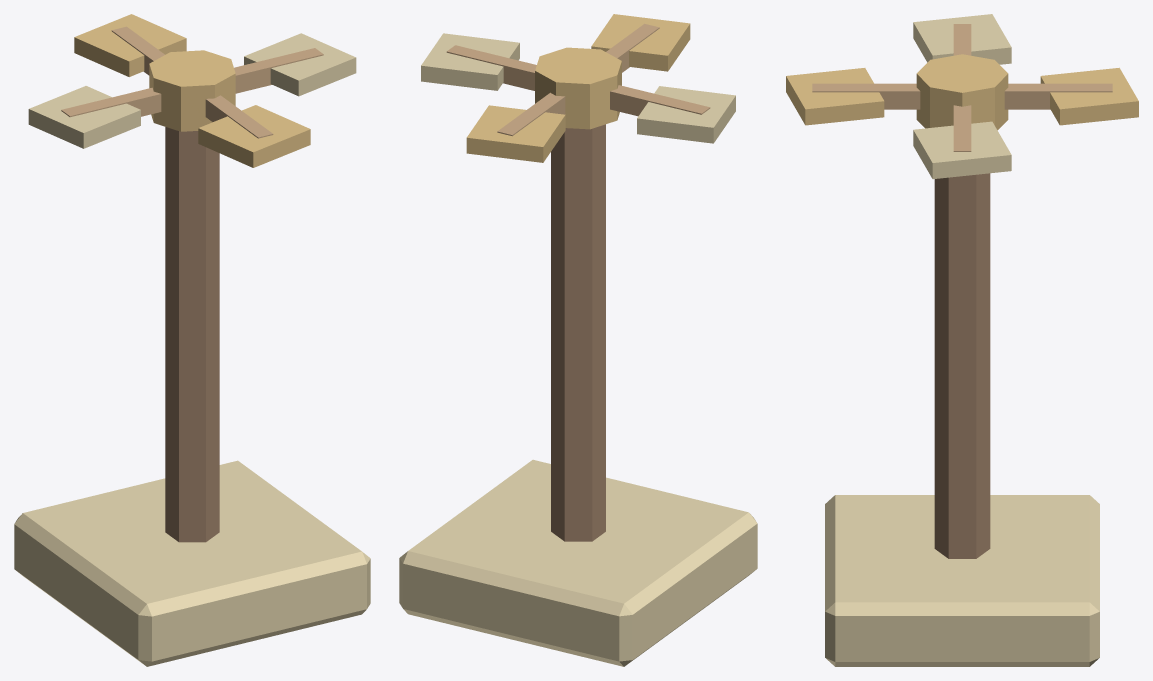
File: cata_vento_solar.glb
3 renders of one model, left to right at view 1: azimuth 30°, elevation 25°; view 2: azimuth 150°, elevation 25°; view 3: azimuth 270°, elevation 25°, orthographic. The views are drawn at different scales.
Visible parts, largest first — view 1: base_arenito, mastro, centro_dourado, pa_3, pa_2, pa_0, pa_1, braco_0, braco_2, braco_3, braco_1; view 2: base_arenito, mastro, centro_dourado, pa_1, pa_2, pa_0, pa_3, braco_2, braco_0, braco_1, braco_3; view 3: base_arenito, mastro, centro_dourado, pa_0, pa_3, pa_1, pa_2, braco_1, braco_3, braco_0, braco_2.
Part boxes in pixels (left/top/right/bottom): base_arenito: left=14, top=460, right=370, bottom=666; mastro: left=165, top=127, right=219, bottom=542; centro_dourado: left=149, top=50, right=235, bottom=131; pa_3: left=198, top=105, right=310, bottom=167; pa_2: left=28, top=86, right=140, bottom=148; pa_0: left=244, top=33, right=356, bottom=96; pa_1: left=74, top=14, right=186, bottom=76; braco_0: left=234, top=48, right=323, bottom=93; braco_2: left=61, top=87, right=161, bottom=117; braco_3: left=205, top=95, right=273, bottom=138; braco_1: left=111, top=26, right=164, bottom=75; base_arenito: left=399, top=459, right=757, bottom=666; mastro: left=551, top=124, right=605, bottom=541; centro_dourado: left=535, top=47, right=621, bottom=129; pa_1: left=466, top=105, right=565, bottom=162; pa_2: left=637, top=86, right=735, bottom=143; pa_0: left=421, top=33, right=519, bottom=90; pa_3: left=591, top=14, right=690, bottom=71; braco_2: left=610, top=85, right=710, bottom=116; braco_0: left=446, top=45, right=536, bottom=90; braco_1: left=497, top=92, right=565, bottom=136; braco_3: left=606, top=23, right=659, bottom=72; base_arenito: left=825, top=495, right=1099, bottom=666; mastro: left=934, top=173, right=990, bottom=558; centro_dourado: left=916, top=54, right=1008, bottom=130; pa_0: left=913, top=121, right=1011, bottom=179; pa_3: left=786, top=68, right=884, bottom=125; pa_1: left=1040, top=67, right=1138, bottom=125; pa_2: left=913, top=14, right=1011, bottom=64; braco_1: left=1004, top=83, right=1112, bottom=109; braco_3: left=812, top=83, right=920, bottom=109; braco_0: left=953, top=105, right=971, bottom=151; braco_2: left=953, top=24, right=971, bottom=55.
Size of the model in its own units: 0.6934 by 1.17 by 0.6934.
